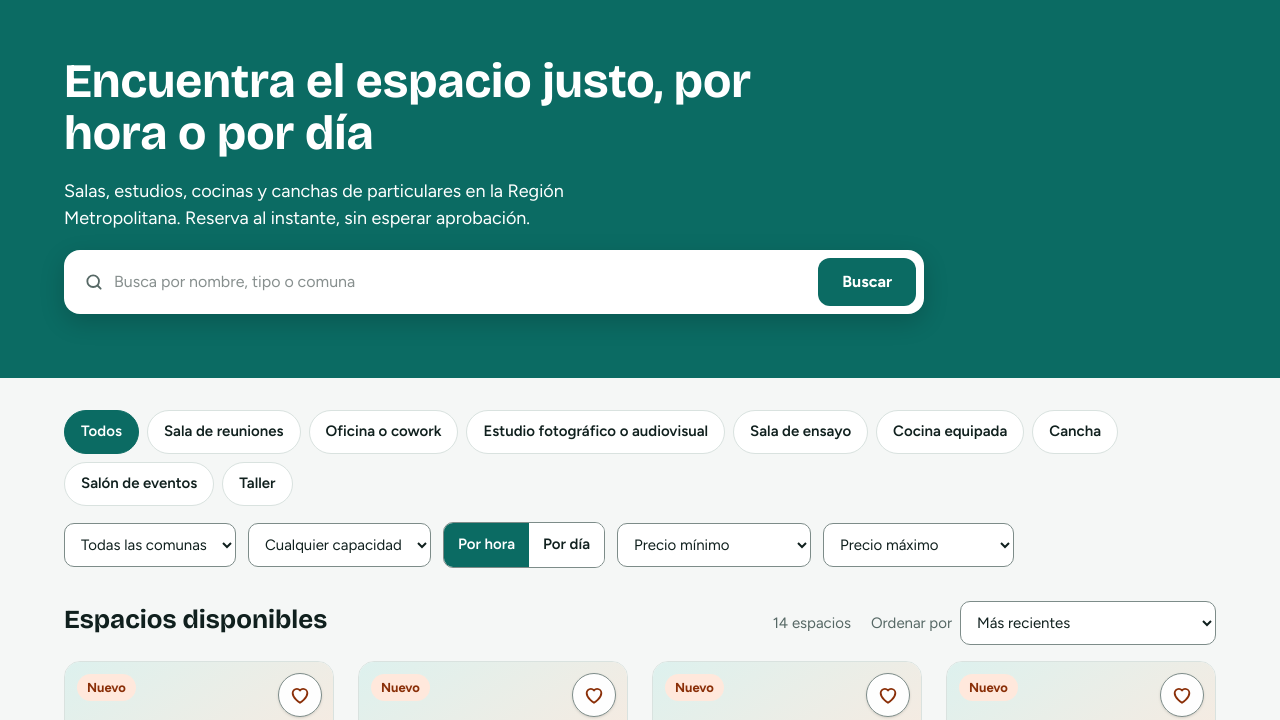
CatalogPage: filtros y búsqueda (BU-03) › comuna, capacidad y precio › filtra por capacidad mínima
Check: the button "Taller" is shown, box [222,462,292,506]
Check: the text "14 espacios" is shown, box [773,612,851,634]
Select "15 o más personas" in the 2nd dropdown named "Capacidad mínima": (340, 545) [248,523,431,567]
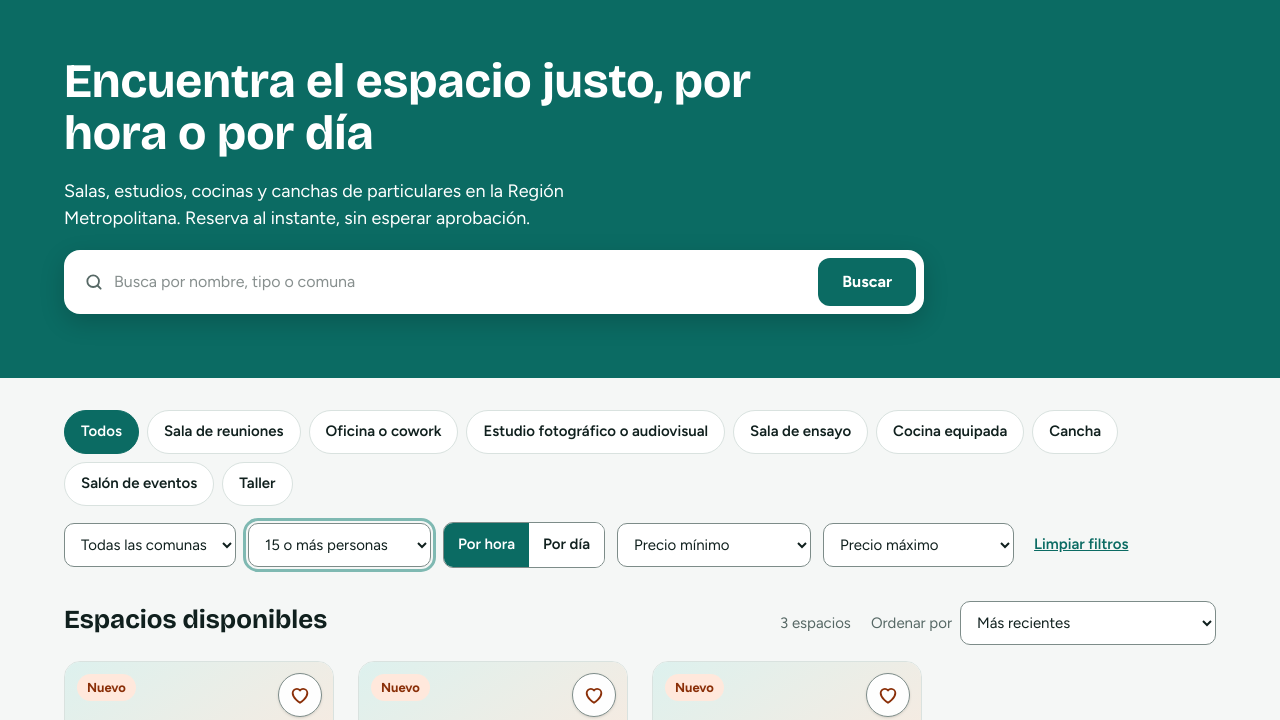
Check: the text "3 espacios" is shown, box [780,612,851,634]
